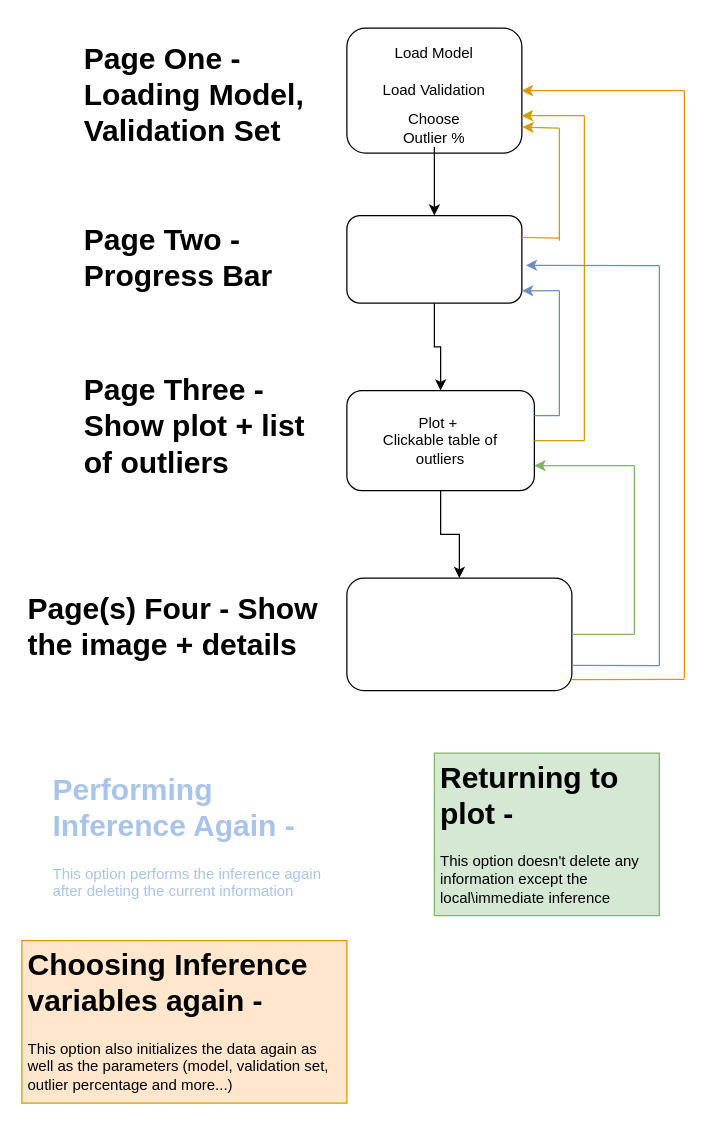
The diagram is 716 pixels wide and 1125 high, and some of its shapes have lost their labels. Here are the shapes that lost their labels. From the top down, the centre of each, then its label:
At [434,258]: "Performing inference on Validation Set and Analyzing results".
At [459,634]: "Show the image + masked image + evaluate time + score".
